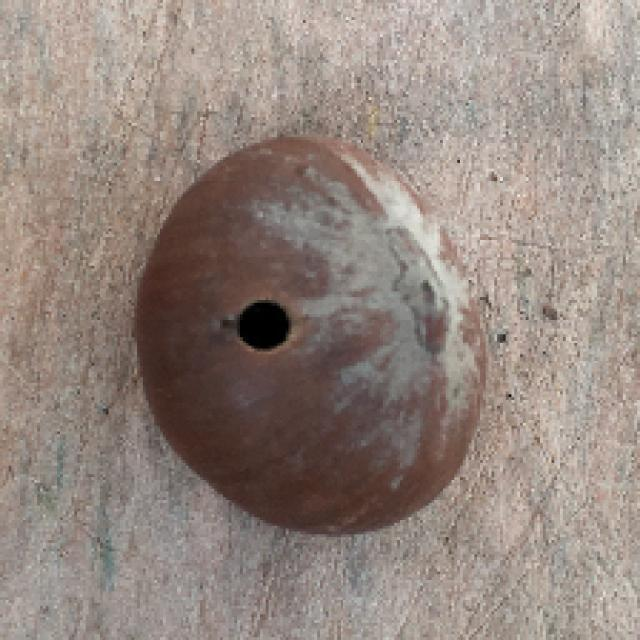damagedHazelnut: (127, 132, 493, 538)
